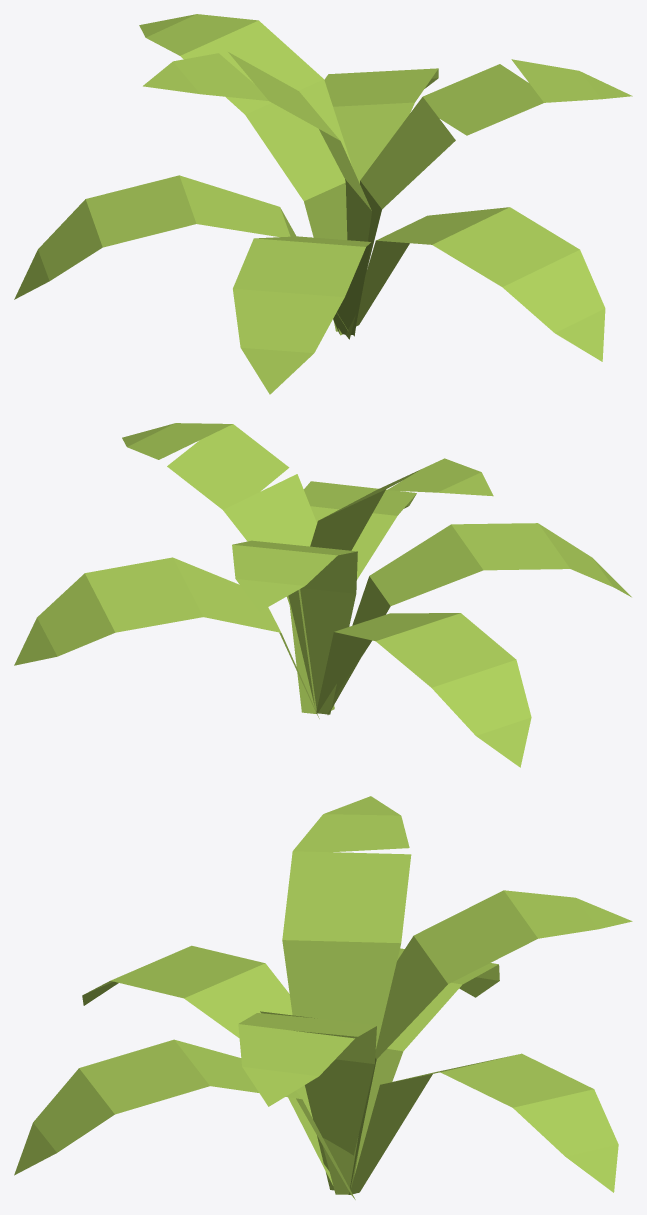
Rendered from grass_03.fbx.
3 views of the same model, one above another, from view 1: azimuth 30°, elevation 25°; view 2: azimuth 150°, elevation 25°; view 3: azimuth 270°, elevation 25° (orthographic). The views are drawn at different scales.
Visible parts, largest first — view 1: grass_03; view 2: grass_03; view 3: grass_03.
Part boxes in pixels (box(x1,y1,x2,y2)): grass_03: box(14, 14, 632, 394); grass_03: box(14, 423, 631, 767); grass_03: box(14, 796, 632, 1199).
Size of the model in its own units: 97.5 by 52.08 by 96.11.
